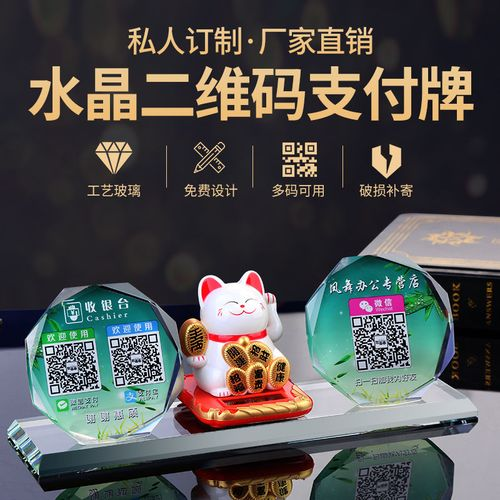QRCode: (348, 311, 413, 373), (104, 333, 167, 389), (41, 340, 99, 397)
